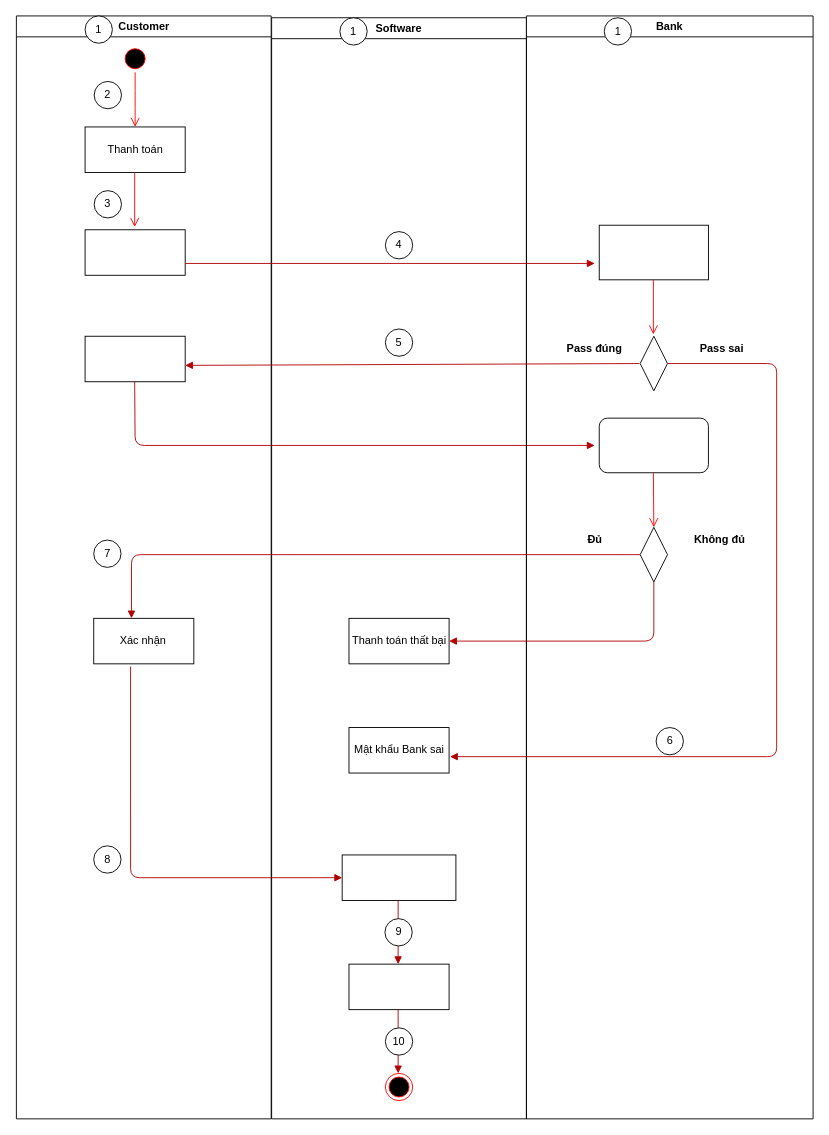
Some shapes in this 829 by 1135 pixel diagram are drawn without their labels. Here are the shapes that lost their labels. From the top down, the centre of each, then its label:
the point at 134,252: Nhập mật khẩu Bank
the point at 653,252: Ủy quyền
the point at 134,358: Nhập số tiền
the point at 653,445: Kiểm tra số dư
the point at 398,877: Thanh toán thành công
the point at 398,986: Thông tin đơn hàng
